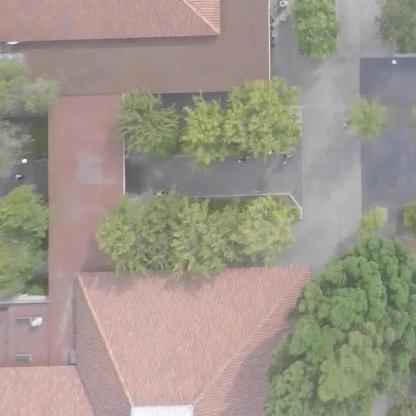Pedestrian: (277, 150, 300, 172), (233, 150, 250, 170), (9, 168, 26, 187), (148, 184, 165, 203)
